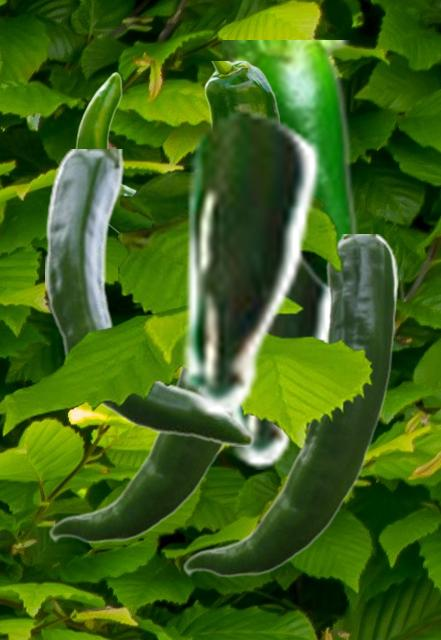green_chili: (182, 234, 398, 577), (45, 149, 254, 445), (173, 107, 321, 418), (75, 61, 280, 233), (222, 40, 357, 292), (48, 380, 222, 543), (223, 271, 328, 468)
